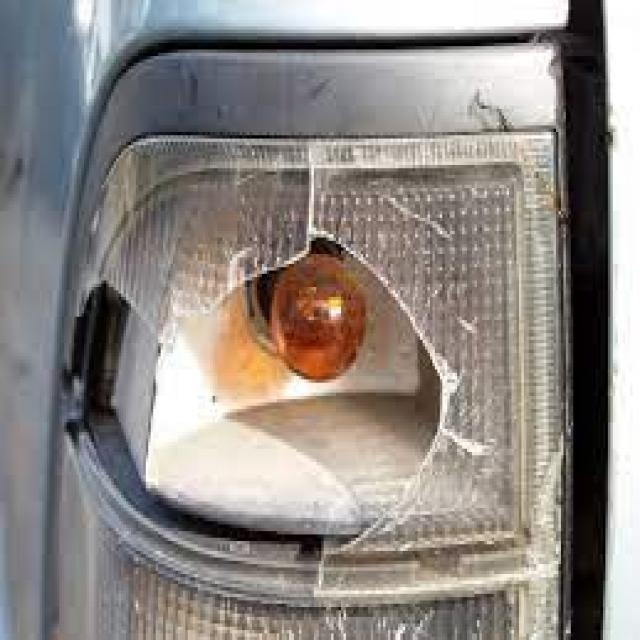damaged-tail-light: (32, 23, 615, 640)
